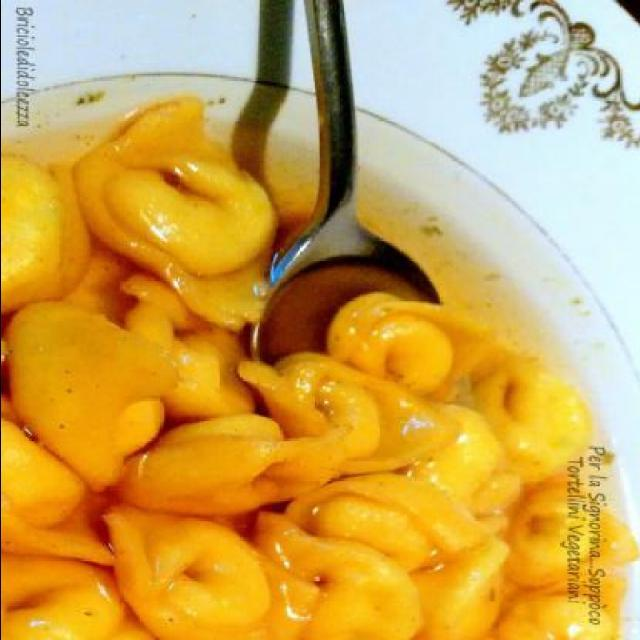Tortellini in broth: (89, 358, 553, 638)
